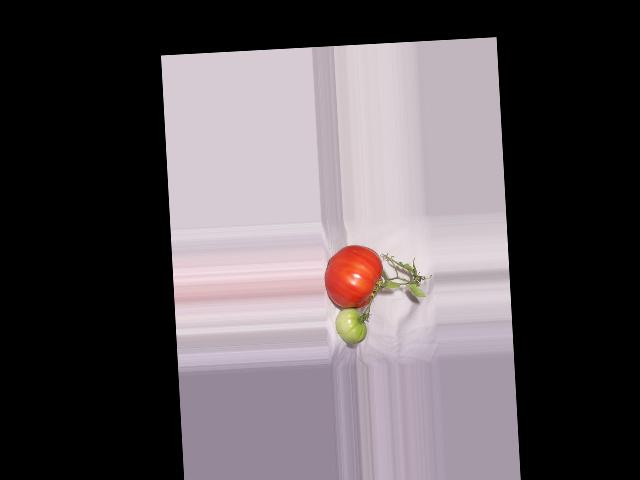tomato: (323, 243, 384, 310)
